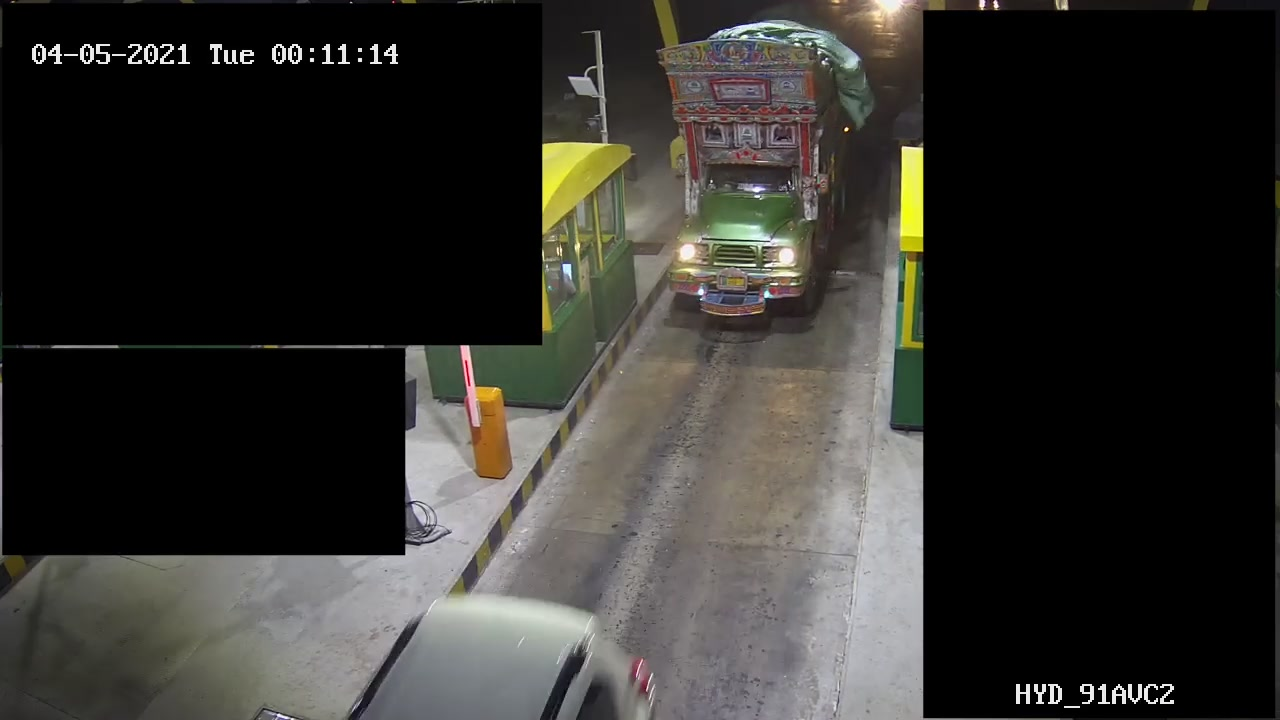F5: (657, 17, 867, 322)
